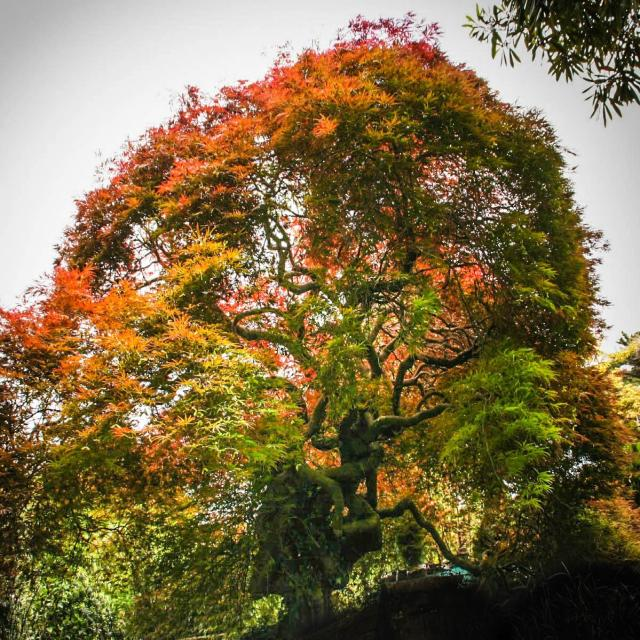Dissectum syn Atropurpurea: (23, 61, 640, 611)
